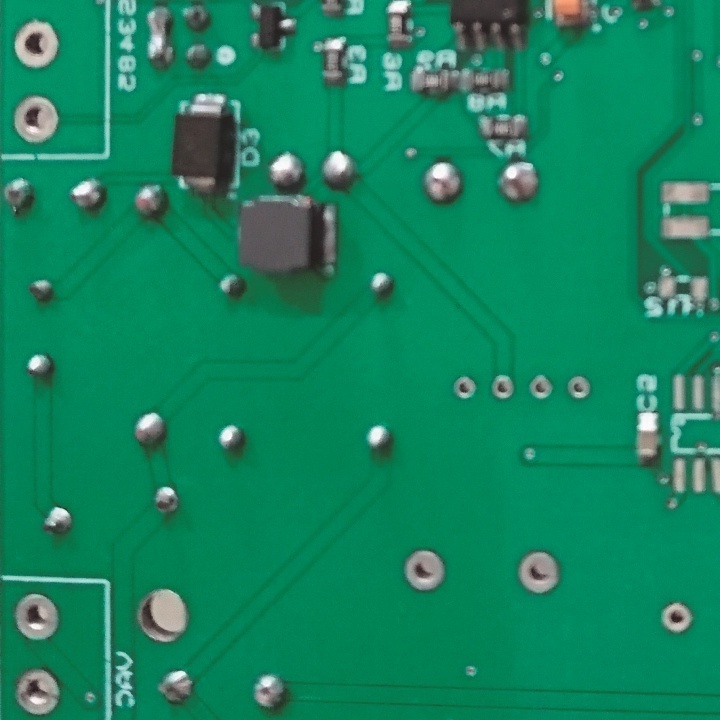F: (10, 591, 63, 643), (516, 547, 567, 600), (10, 95, 61, 146), (11, 666, 64, 714), (14, 20, 61, 72), (400, 546, 448, 593), (660, 601, 693, 634), (451, 375, 479, 406), (565, 374, 591, 403), (527, 374, 553, 401), (492, 374, 514, 401)
